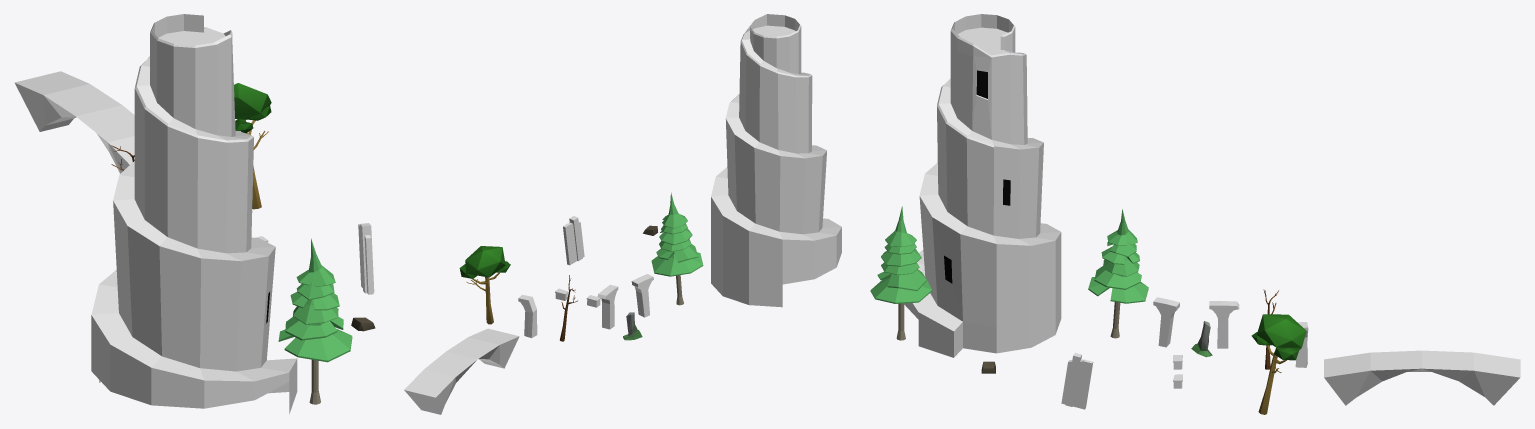
File: SM_Ruins Island01.fbx
3 views of the same model, side by side, from view 1: azimuth 30°, elevation 25°; view 2: azimuth 150°, elevation 25°; view 3: azimuth 270°, elevation 25° (orthographic). The views are drawn at different scales.
Visible parts, largest first — view 1: Cylinder.001, Bridge.001, Pine.003, Tree.001, Cube.006; view 2: Cylinder.001, Bridge.001, Pine.004, Tree.001, Cube.006, Cube.021, Cube.007, Cube.001; view 3: Cylinder.001, Bridge.001, Pine.003, Pine.004, Tree.001, Cube.006, Cube.021, Cube.007.
Boxes of the visible parts, x1,y1,x2,y2 form: Cylinder.001: (91, 14, 297, 413); Bridge.001: (14, 71, 134, 173); Pine.003: (278, 238, 352, 404); Tree.001: (234, 83, 271, 209); Cube.006: (358, 223, 374, 294); Cylinder.001: (711, 14, 841, 307); Bridge.001: (404, 328, 519, 414); Pine.004: (651, 192, 703, 305); Tree.001: (459, 246, 510, 324); Cube.006: (563, 216, 584, 265); Cube.021: (597, 284, 618, 329); Cube.007: (631, 274, 653, 317); Cube.001: (518, 294, 537, 338); Cylinder.001: (904, 14, 1061, 357); Bridge.001: (1324, 350, 1520, 405); Pine.003: (870, 206, 932, 340); Pine.004: (1088, 209, 1148, 338); Tree.001: (1251, 314, 1306, 414); Cube.006: (1061, 352, 1093, 409); Cube.021: (1209, 301, 1239, 348); Cube.007: (1153, 297, 1179, 347).
Bounding box in the file's own units: 2179 × 2218 × 4327.
